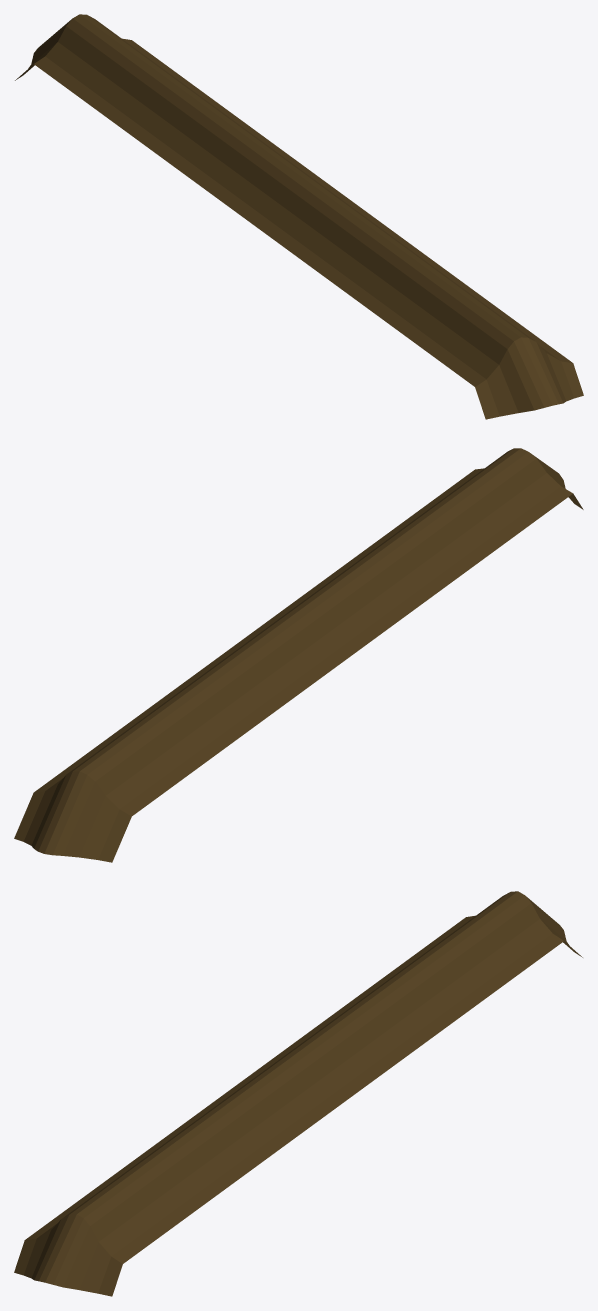
File: GroundWave.fbx
The picture shows the model from 3 angles, top to bottom: view 1: azimuth 30°, elevation 25°; view 2: azimuth 150°, elevation 25°; view 3: azimuth 330°, elevation 25°; orthographic projection.
Parts seen in each view (by area): view 1: Plane; view 2: Plane; view 3: Plane.
Boxes of the visible parts, x1,y1,x2,y2 form: Plane: [15, 14, 583, 419]; Plane: [14, 448, 583, 862]; Plane: [14, 891, 582, 1296].
Bounding box in the file's own units: 272 × 178 × 2442.
